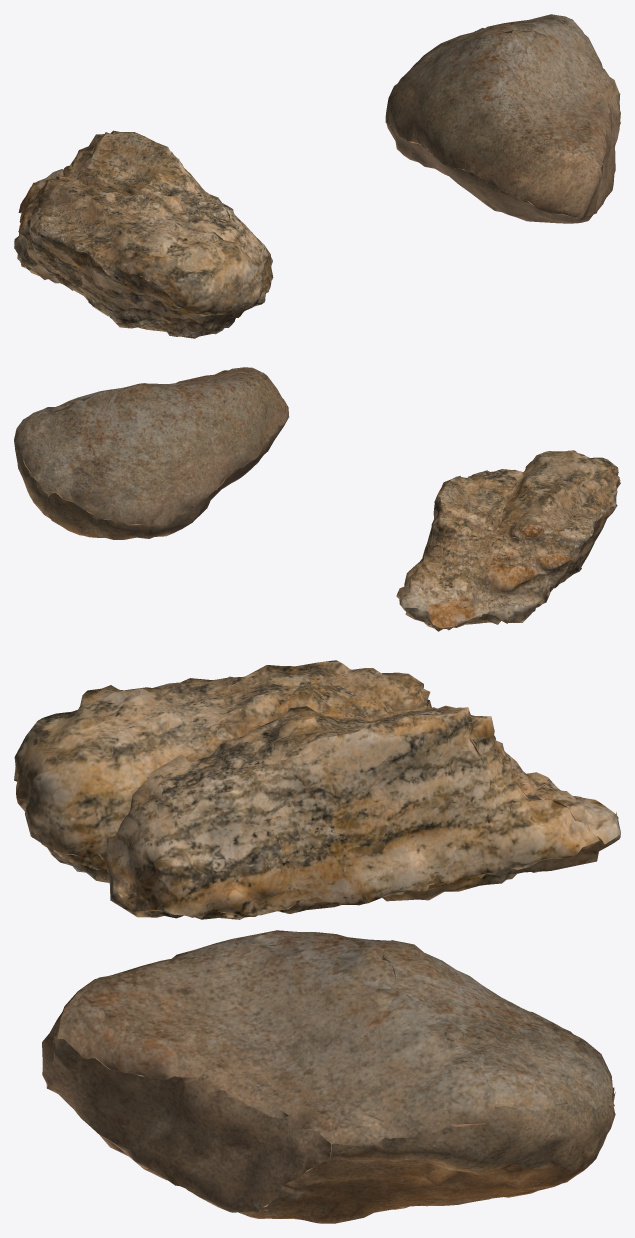
File: namaqualand_boulders_01_lod0.glb
The picture shows the model from 3 angles, top to bottom: view 1: azimuth 30°, elevation 25°; view 2: azimuth 150°, elevation 25°; view 3: azimuth 270°, elevation 25°; orthographic projection. The views are drawn at different scales.
Parts seen in each view (by area): view 1: namaqualand_rocks_01_a, namaqualand_rocks_01_b; view 2: namaqualand_rocks_01_a, namaqualand_rocks_01_b; view 3: namaqualand_rocks_01_a, namaqualand_rocks_01_b.
Part boxes in pixels (<box>): namaqualand_rocks_01_a: <box>385,14,620,223</box>; namaqualand_rocks_01_b: <box>14,130,273,338</box>; namaqualand_rocks_01_a: <box>14,367,289,539</box>; namaqualand_rocks_01_b: <box>396,450,620,631</box>; namaqualand_rocks_01_a: <box>42,930,615,1223</box>; namaqualand_rocks_01_b: <box>14,660,620,919</box>.
Bounding box in the file's own units: 1.06 × 0.2521 × 0.5835.
1 material, 1 textured.
